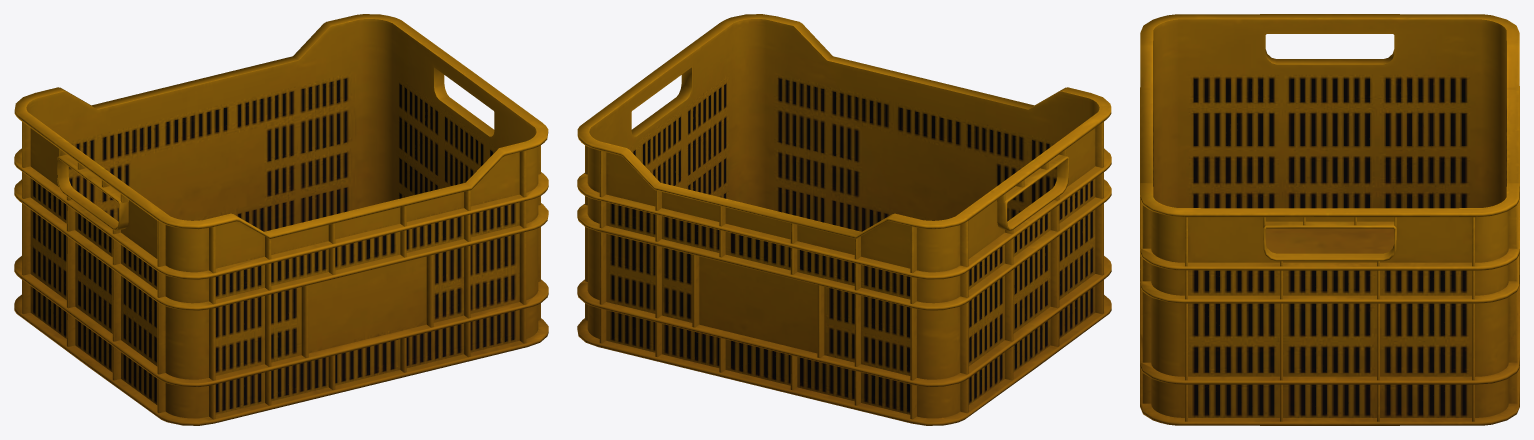
Rendered from plastic-crate.glb.
3 views of the same model, side by side, from view 1: azimuth 30°, elevation 25°; view 2: azimuth 150°, elevation 25°; view 3: azimuth 270°, elevation 25° (orthographic). The views are drawn at different scales.
Visible parts, largest first — view 1: plastic_crate_02; view 2: plastic_crate_02; view 3: plastic_crate_02.
Part boxes in pixels (x1,y1,x2,y2): plastic_crate_02: (14,14,548,425); plastic_crate_02: (577,14,1111,425); plastic_crate_02: (1140,14,1519,425).
Bounding box in the file's own units: 0.5055 × 0.2541 × 0.4055.
Materials: 1 (1 with a texture image).
